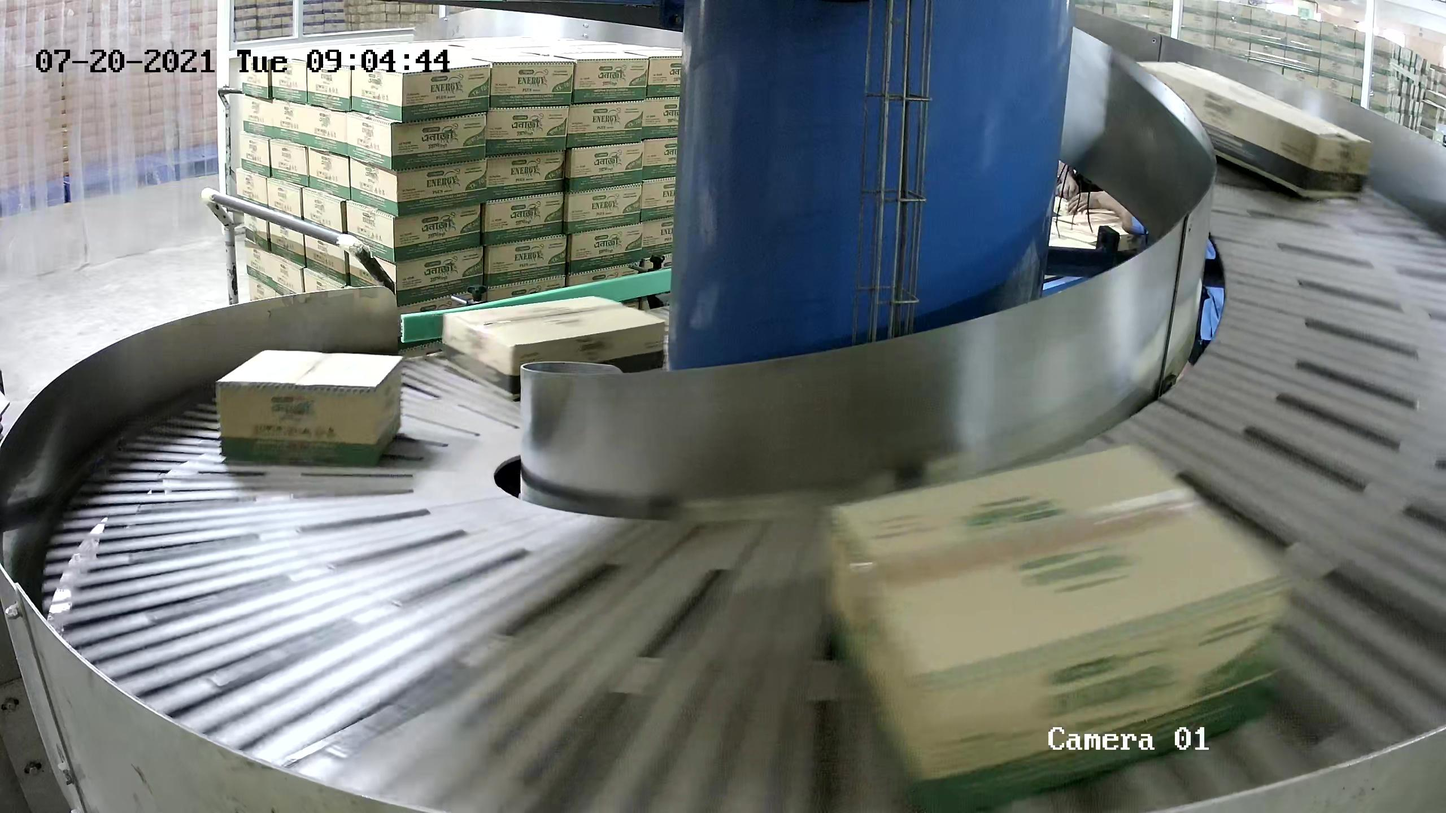Box: (818, 441, 1296, 813), (1130, 59, 1372, 198), (440, 294, 666, 401), (216, 349, 405, 465)
